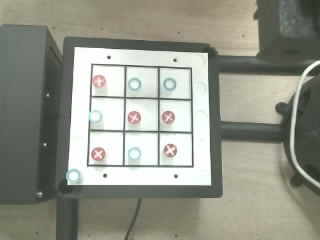blue circle: (128, 147, 142, 161), (66, 169, 80, 183), (128, 78, 142, 91), (163, 78, 177, 91), (89, 110, 102, 122)
board: (65, 46, 211, 186)
cells: (88, 132, 122, 165), (89, 98, 123, 129), (125, 133, 157, 165), (160, 133, 191, 165), (125, 99, 157, 130), (92, 65, 124, 96), (159, 100, 191, 131), (126, 67, 157, 97), (160, 68, 190, 98)
grid: (87, 64, 193, 167)
red cross: (92, 75, 106, 88), (91, 147, 105, 160), (163, 144, 176, 157), (161, 111, 174, 124), (128, 111, 140, 123)
